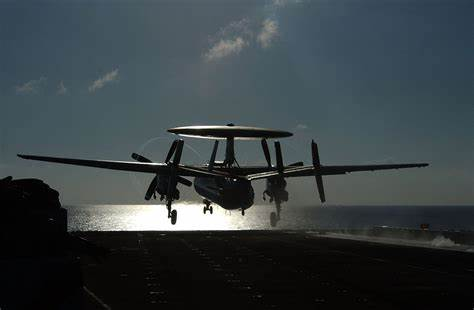Aeronef_militaire: (11, 114, 438, 235)
